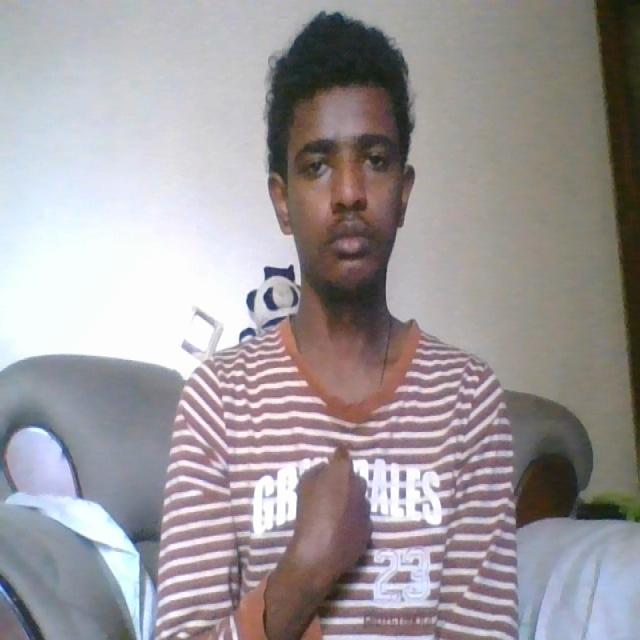ene: (277, 436, 384, 594)
